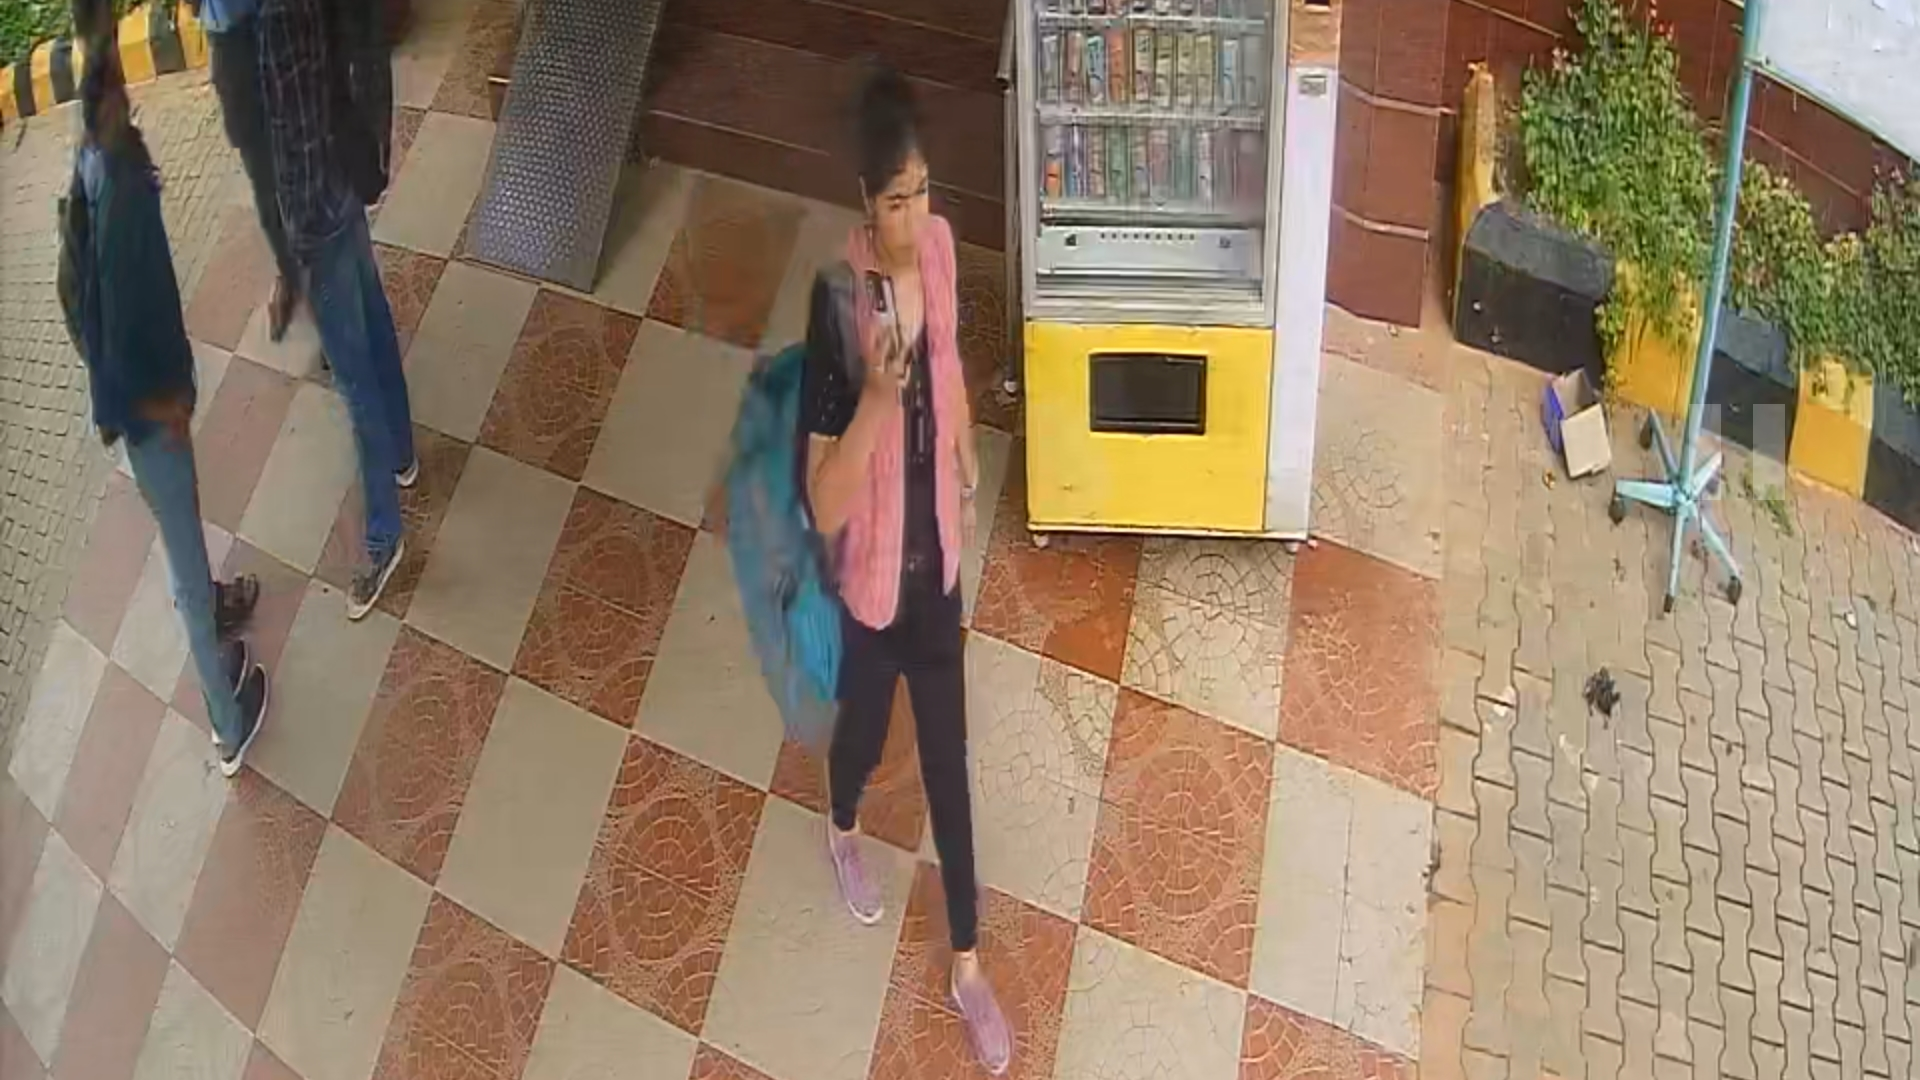intruder: (793, 74, 1033, 1079)
